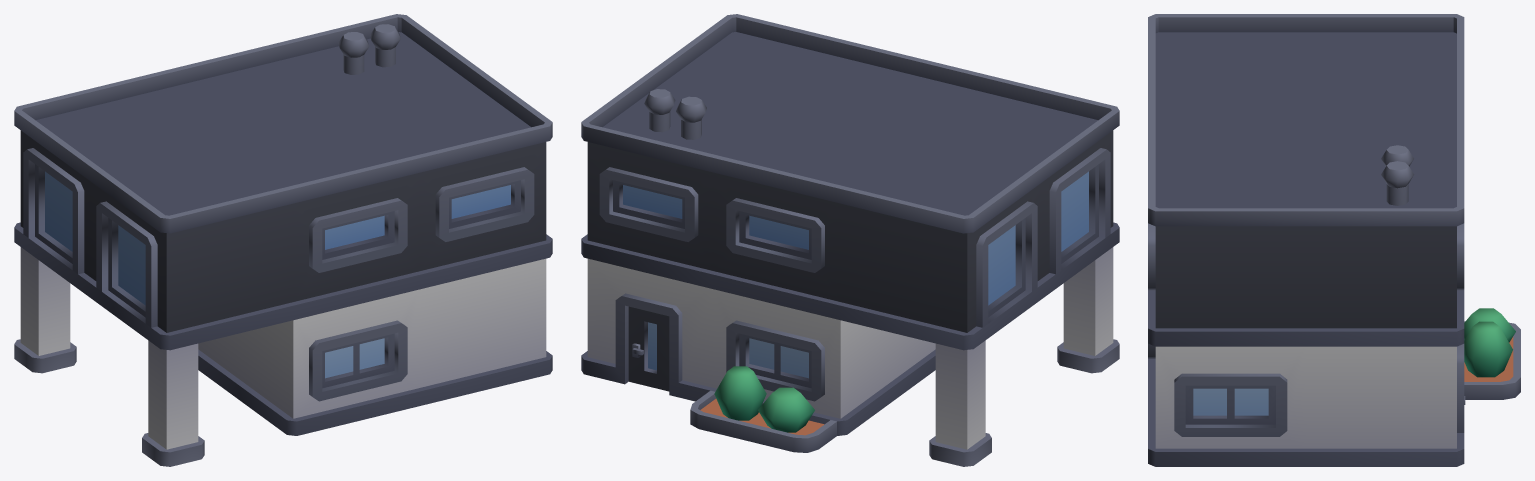
File: villaA.glb
The picture shows the model from 3 angles, left to right: view 1: azimuth 30°, elevation 25°; view 2: azimuth 150°, elevation 25°; view 3: azimuth 270°, elevation 25°; orthographic projection. The views are drawn at different scales.
Visible parts, largest first — view 1: villaA; view 2: villaA; view 3: villaA.
Part boxes in pixels (box(x1,y1,x2,y2)): villaA: box(14, 14, 552, 466); villaA: box(581, 14, 1119, 466); villaA: box(1148, 14, 1520, 466).
Size of the model in its own units: 11.5 by 7.5 by 9.18.
